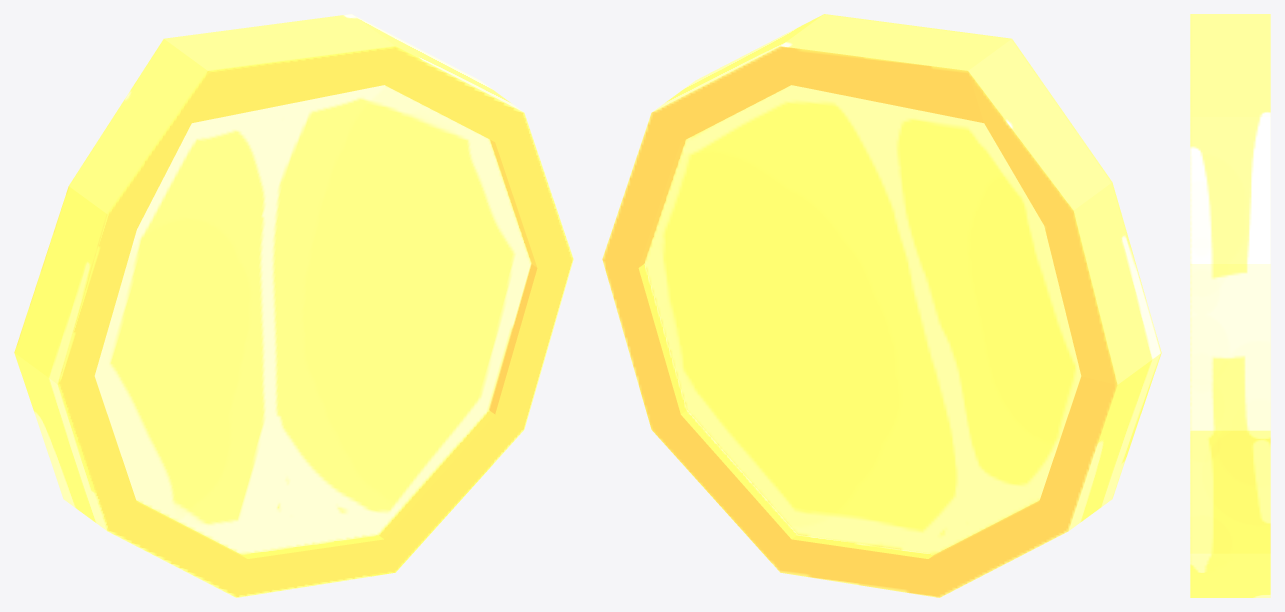
Rendered from Coin.fbx.
The picture shows the model from 3 angles, left to right: view 1: azimuth 30°, elevation 25°; view 2: azimuth 150°, elevation 25°; view 3: azimuth 270°, elevation 25°; orthographic projection. The views are drawn at different scales.
Parts seen in each view (by area): view 1: Valuable_Coin; view 2: Valuable_Coin; view 3: Valuable_Coin.
Part boxes in pixels (x1,y1,x2,y2): Valuable_Coin: [14, 14, 573, 597]; Valuable_Coin: [602, 14, 1161, 597]; Valuable_Coin: [1190, 14, 1270, 597].
Bounding box in the file's own units: 61.55 × 62.5 × 9.12.
